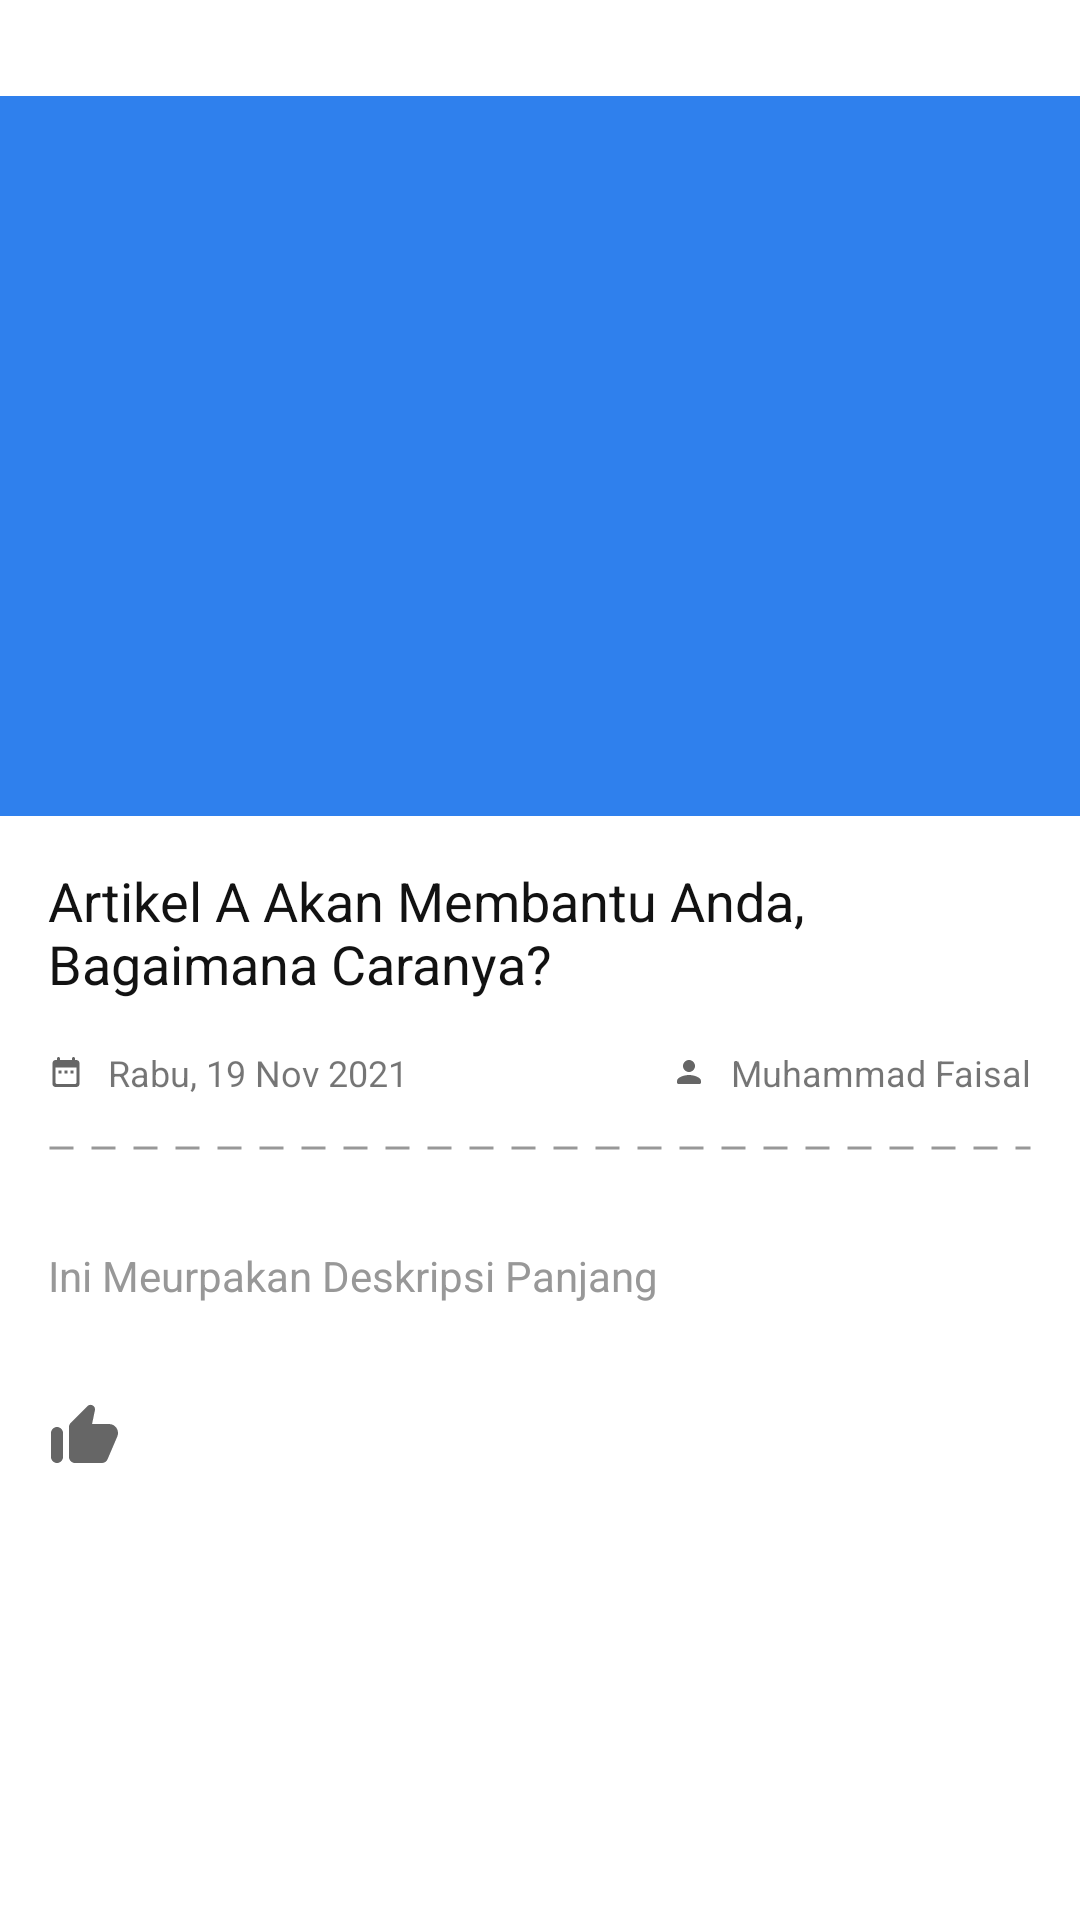

Icons on this 1080x1920 Android screen, each with its box as BBox(x1, y1, x2, y2):
thumb up: BBox(51, 1405, 118, 1463)
